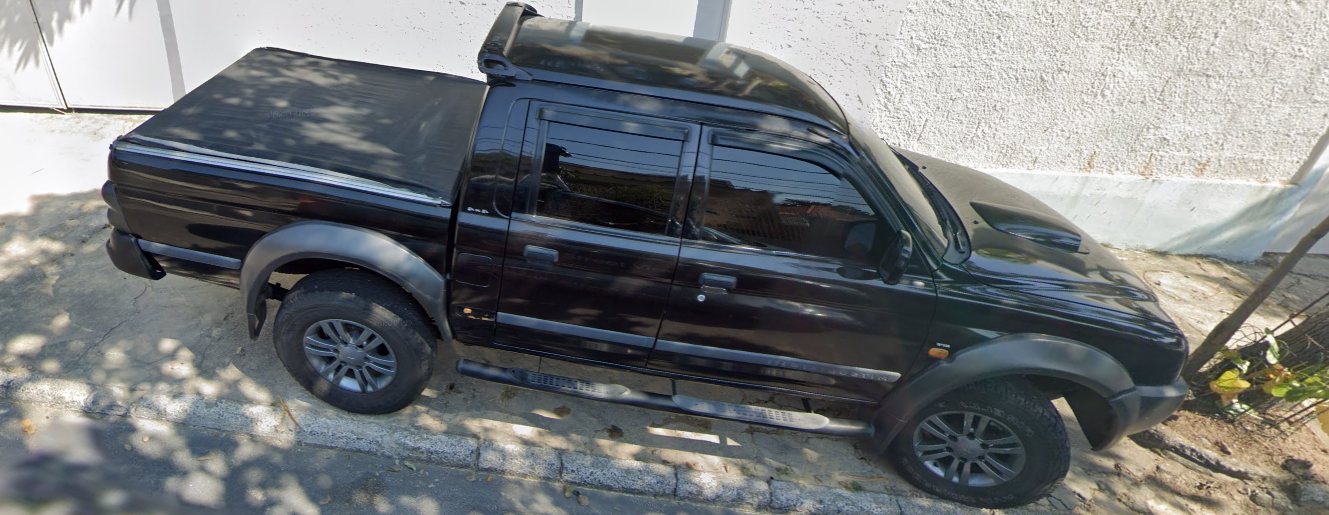car: (108, 3, 1190, 508)
